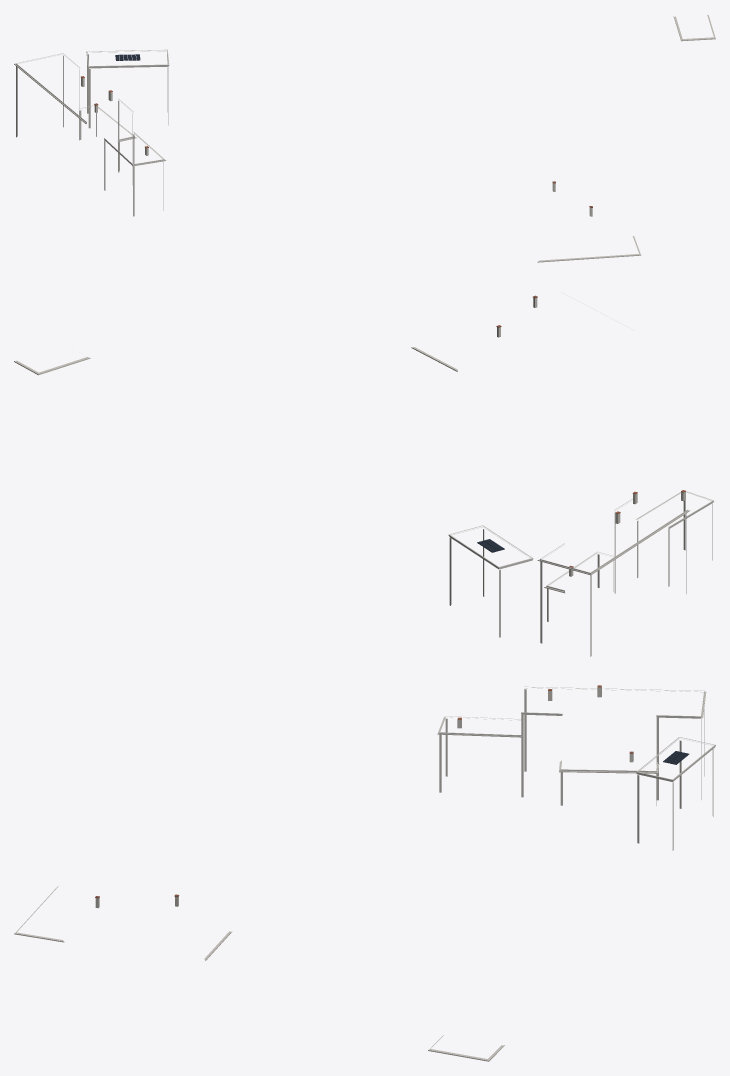
3 views of the same model, one above another, from view 1: azimuth 30°, elevation 25°; view 2: azimuth 150°, elevation 25°; view 3: azimuth 270°, elevation 25° (orthographic). The views are drawn at different scales.
Parts seen in each view (by area): view 1: detail; view 2: detail; view 3: detail.
Boxes of the visible parts, x1=… form: detail: x1=14, y1=15, x2=715, y2=262; detail: x1=14, y1=292, x2=714, y2=656; detail: x1=14, y1=685, x2=715, y2=1061.
Bounding box in the file's own units: 186 × 25.82 × 162.
